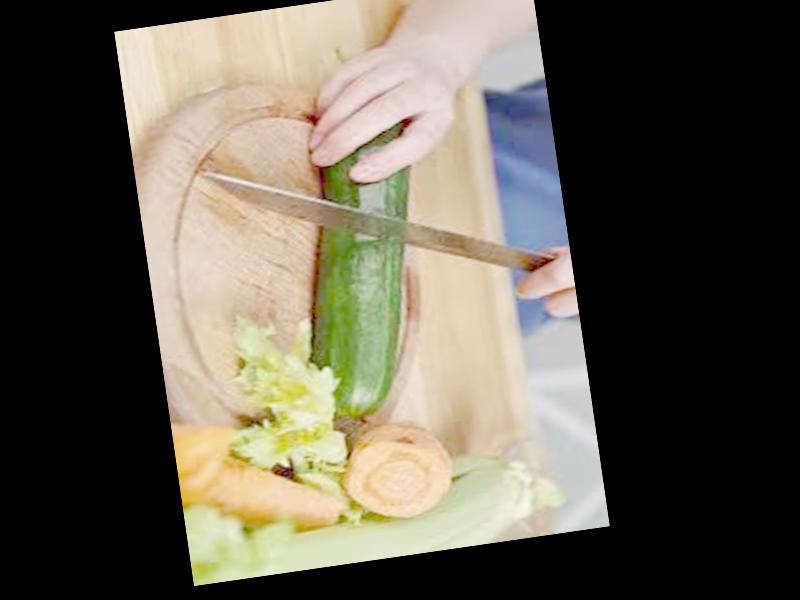Cucumber: (285, 120, 445, 423)
